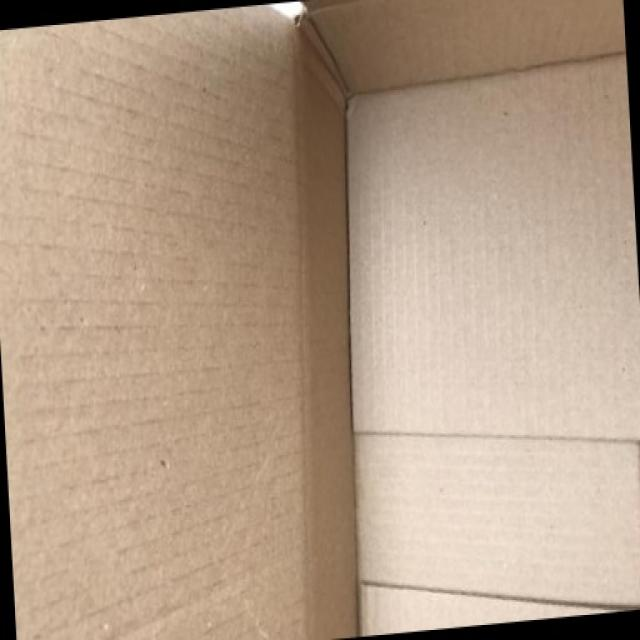carton: (3, 6, 640, 625)
